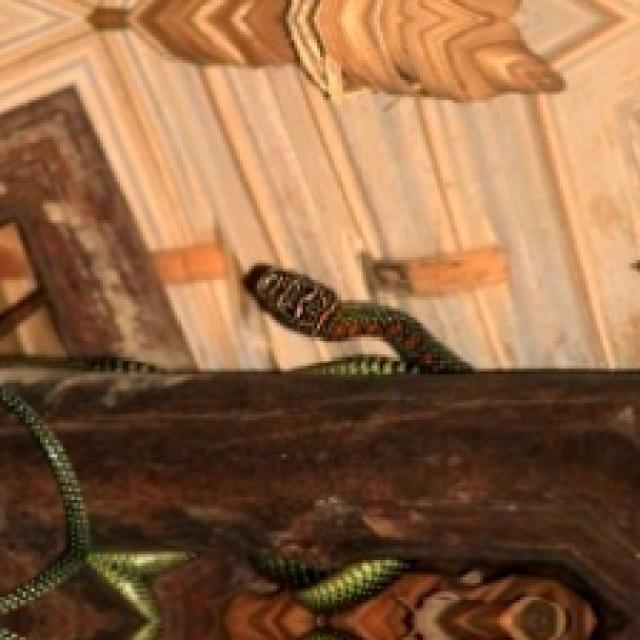paradise tree snake: (0, 386, 189, 639), (226, 554, 594, 637), (243, 263, 469, 369), (0, 386, 91, 613), (0, 356, 158, 372), (301, 355, 410, 376)
